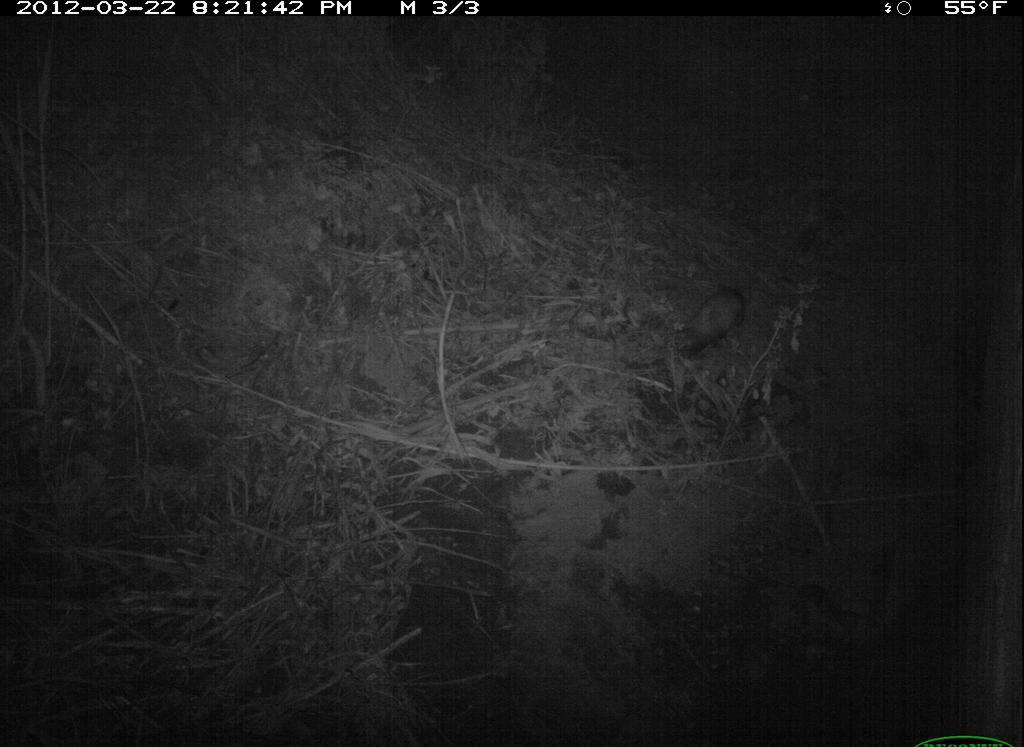opossum: (661, 277, 757, 368)
